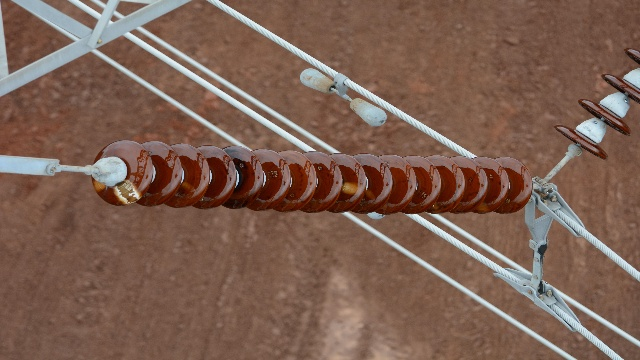insulator_unspecified: (92, 141, 531, 216), (554, 49, 639, 158)
pollution_flashover_local: (115, 180, 142, 205), (339, 179, 361, 197), (91, 179, 107, 194)
